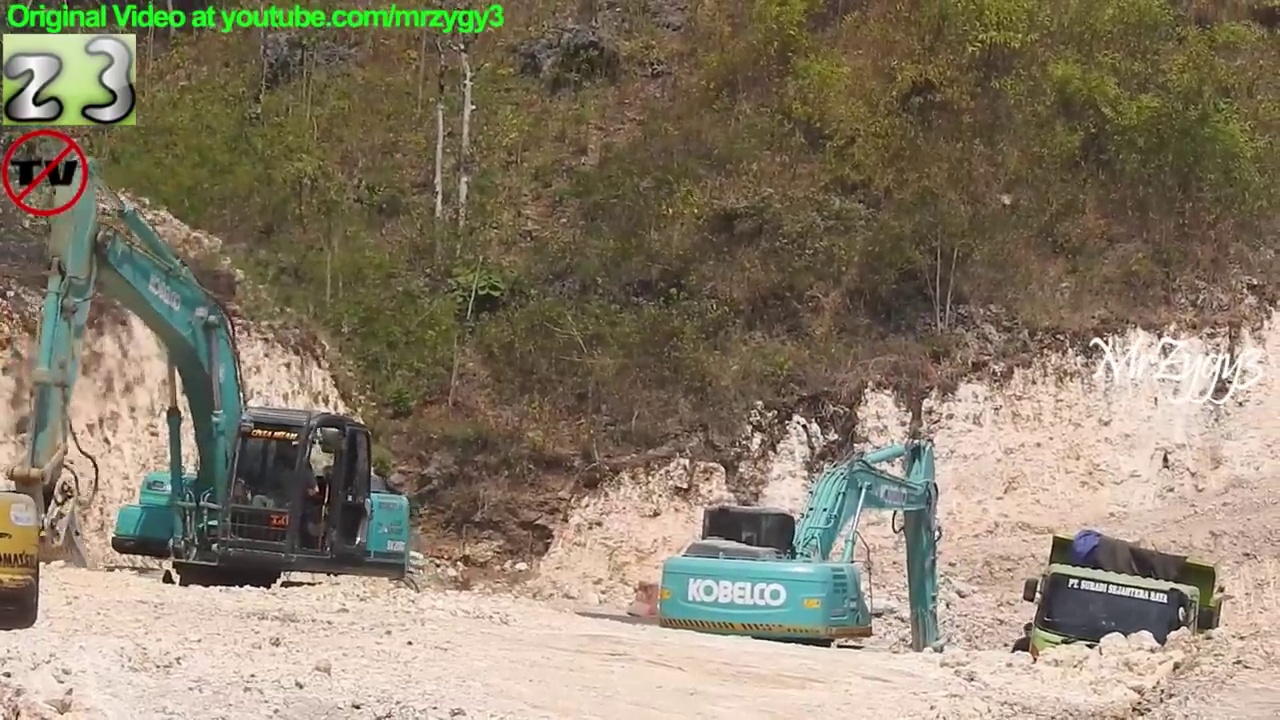excavator: (9, 144, 420, 641), (653, 427, 962, 712), (1, 482, 47, 633)
truck: (1019, 524, 1231, 720)
